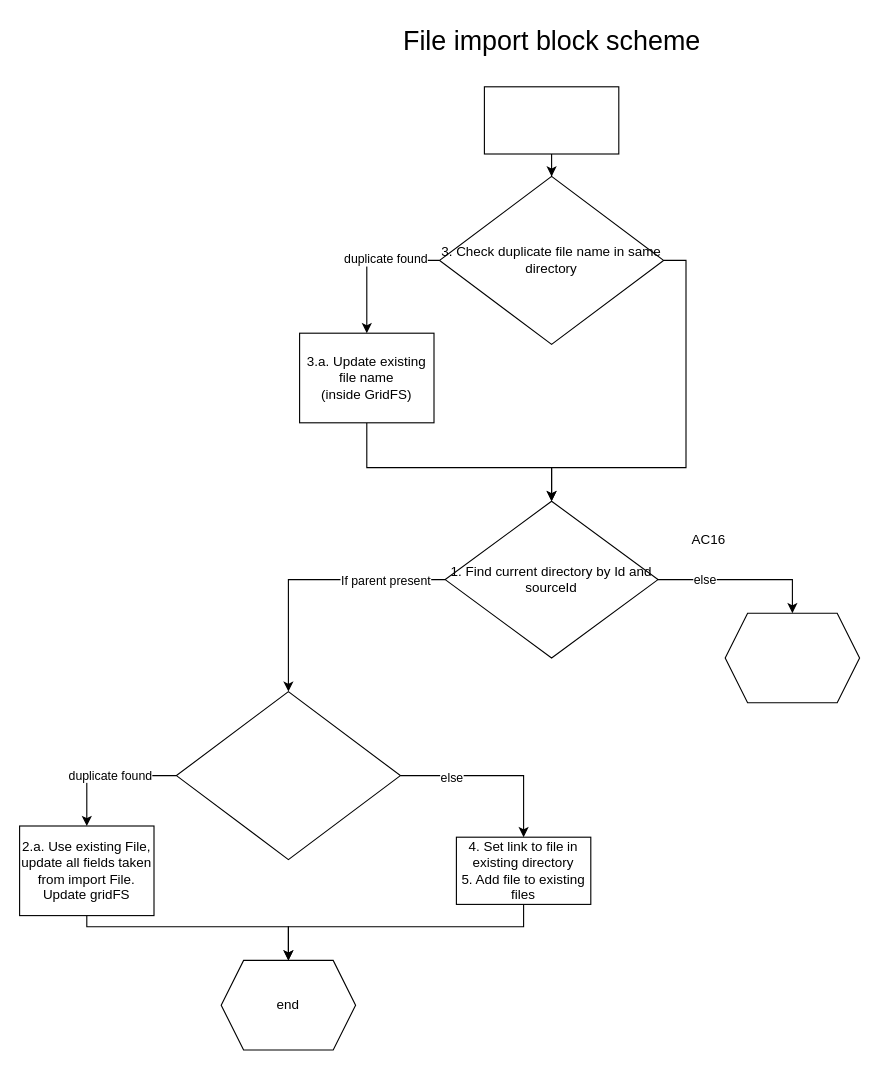
The diagram is 879 pixels wide and 1070 high, and some of its shapes have lost their labels. The shapes that lost their labels are listed below. From the top down, each one's box as (x1, y1, x2, y2) in pixels, then its label:
(483, 86, 619, 154): 0. Upload import file to gridFS
(724, 612, 860, 703): 1.b Throw exception
(175, 690, 400, 860): 2. Check duplicate id and sourceId file in the whole project
